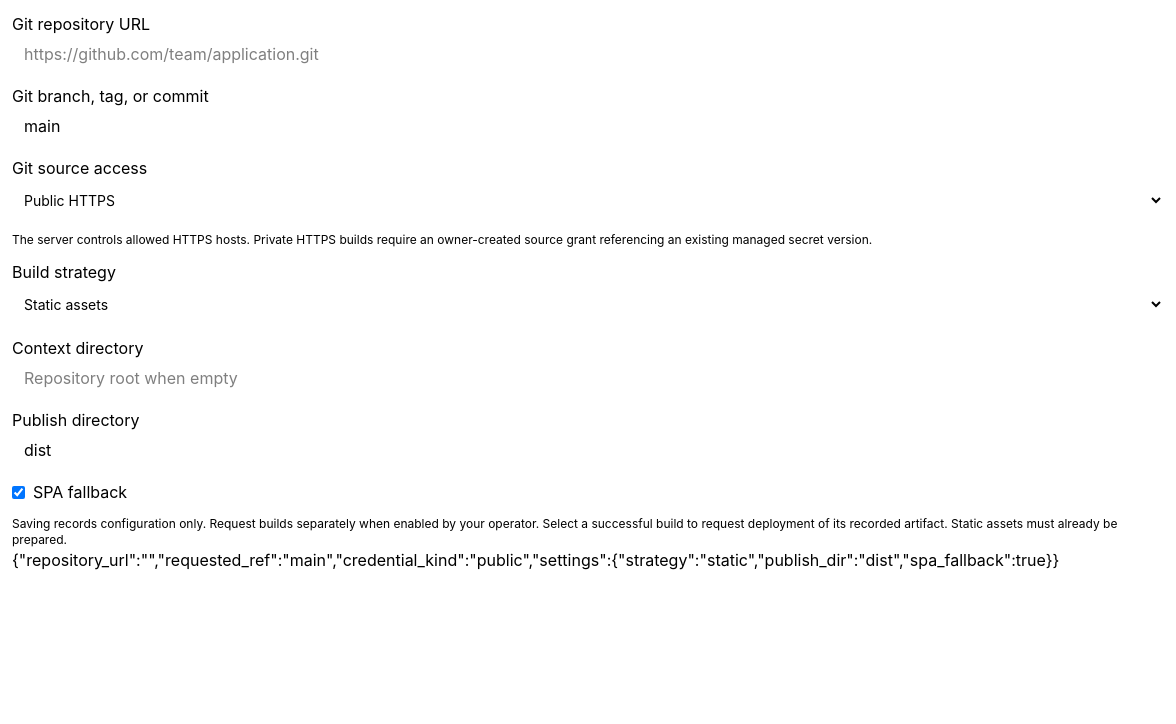
it: switching static to Compose removes publish and SPA settings
Select "Docker Compose" in the dropdown labelled "Build strategy" at (588, 304), box [12,284,1164,324]
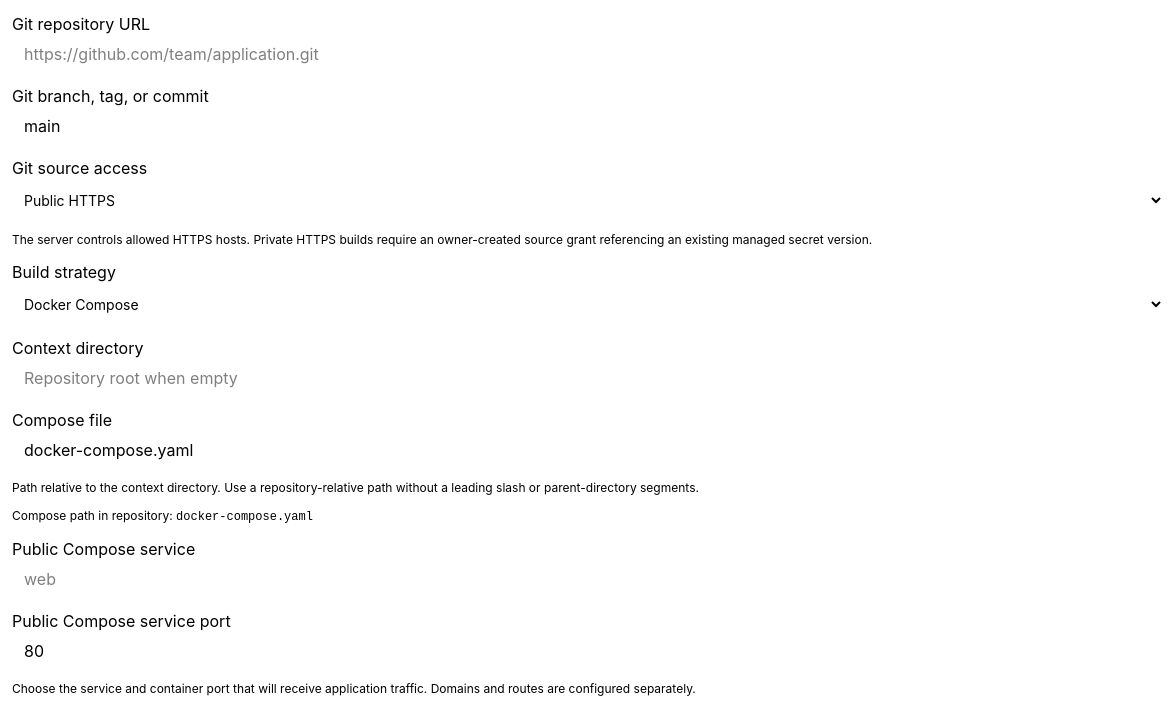
Expected: the text "docker-compose.yaml" is shown, [176,510,313,524]
